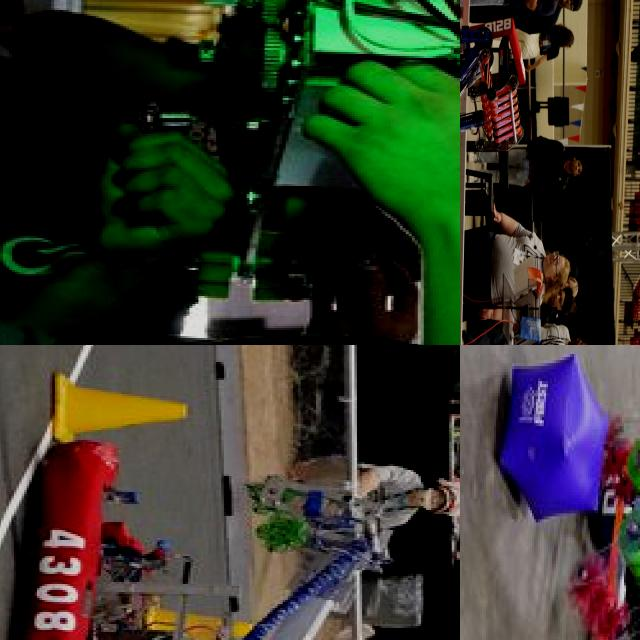FRC-Robots: (0, 427, 440, 640), (240, 0, 460, 134), (460, 0, 542, 221), (535, 477, 640, 640)
